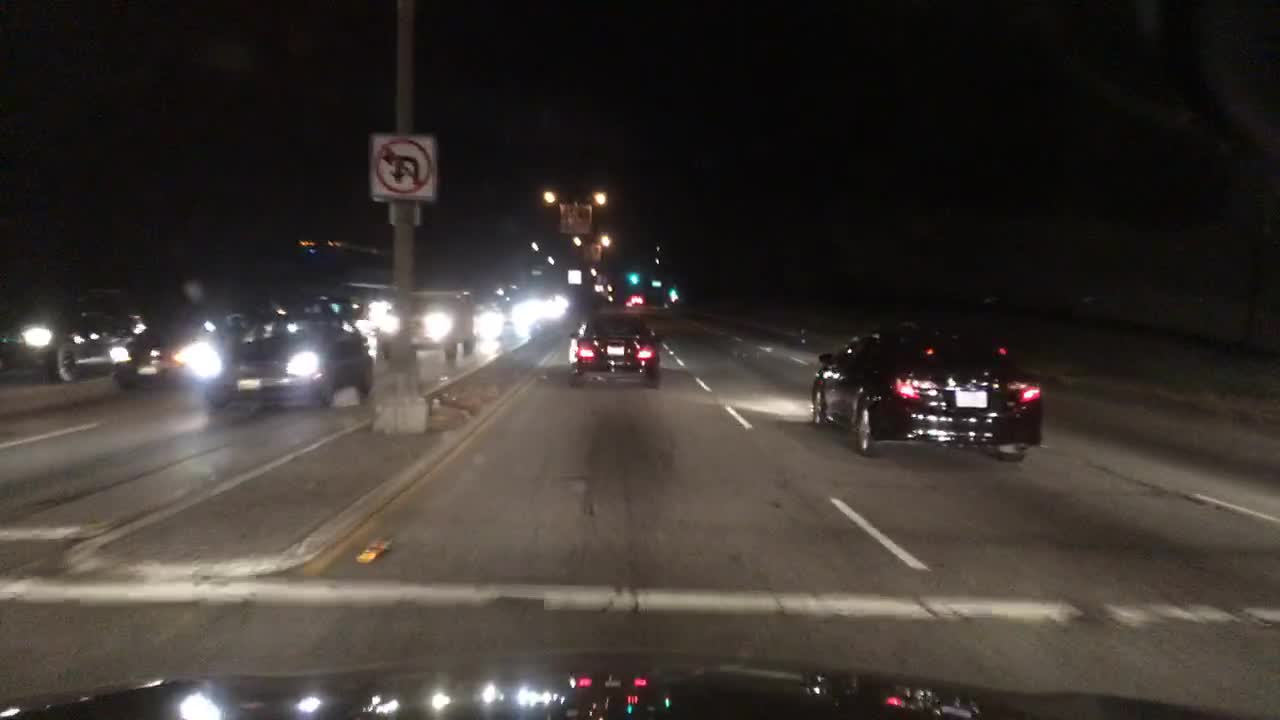car: (809, 322, 1044, 458), (200, 301, 373, 409), (0, 289, 146, 383), (110, 307, 234, 388), (375, 291, 475, 359), (568, 315, 661, 388), (477, 295, 534, 334), (346, 282, 382, 316), (628, 294, 643, 306)
traffic light: (667, 282, 679, 297), (628, 265, 637, 283)
traffic sign: (370, 136, 433, 196), (559, 199, 588, 231), (580, 243, 603, 262), (567, 268, 583, 286), (648, 279, 662, 288)
